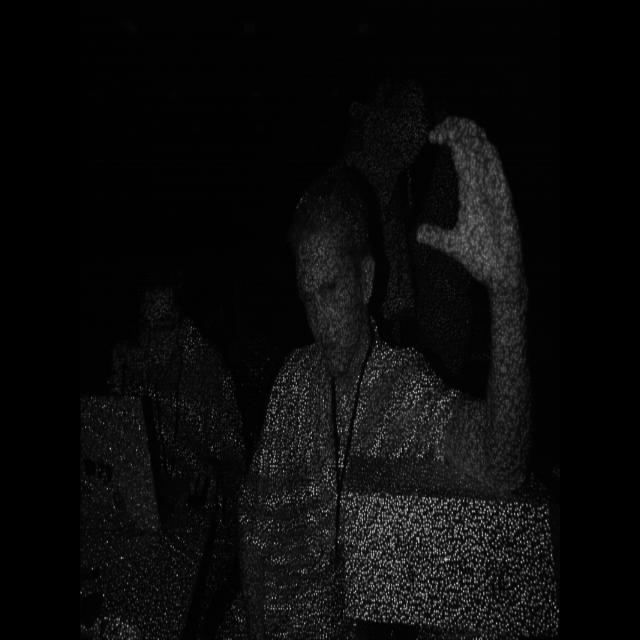C: (406, 95, 532, 315)
